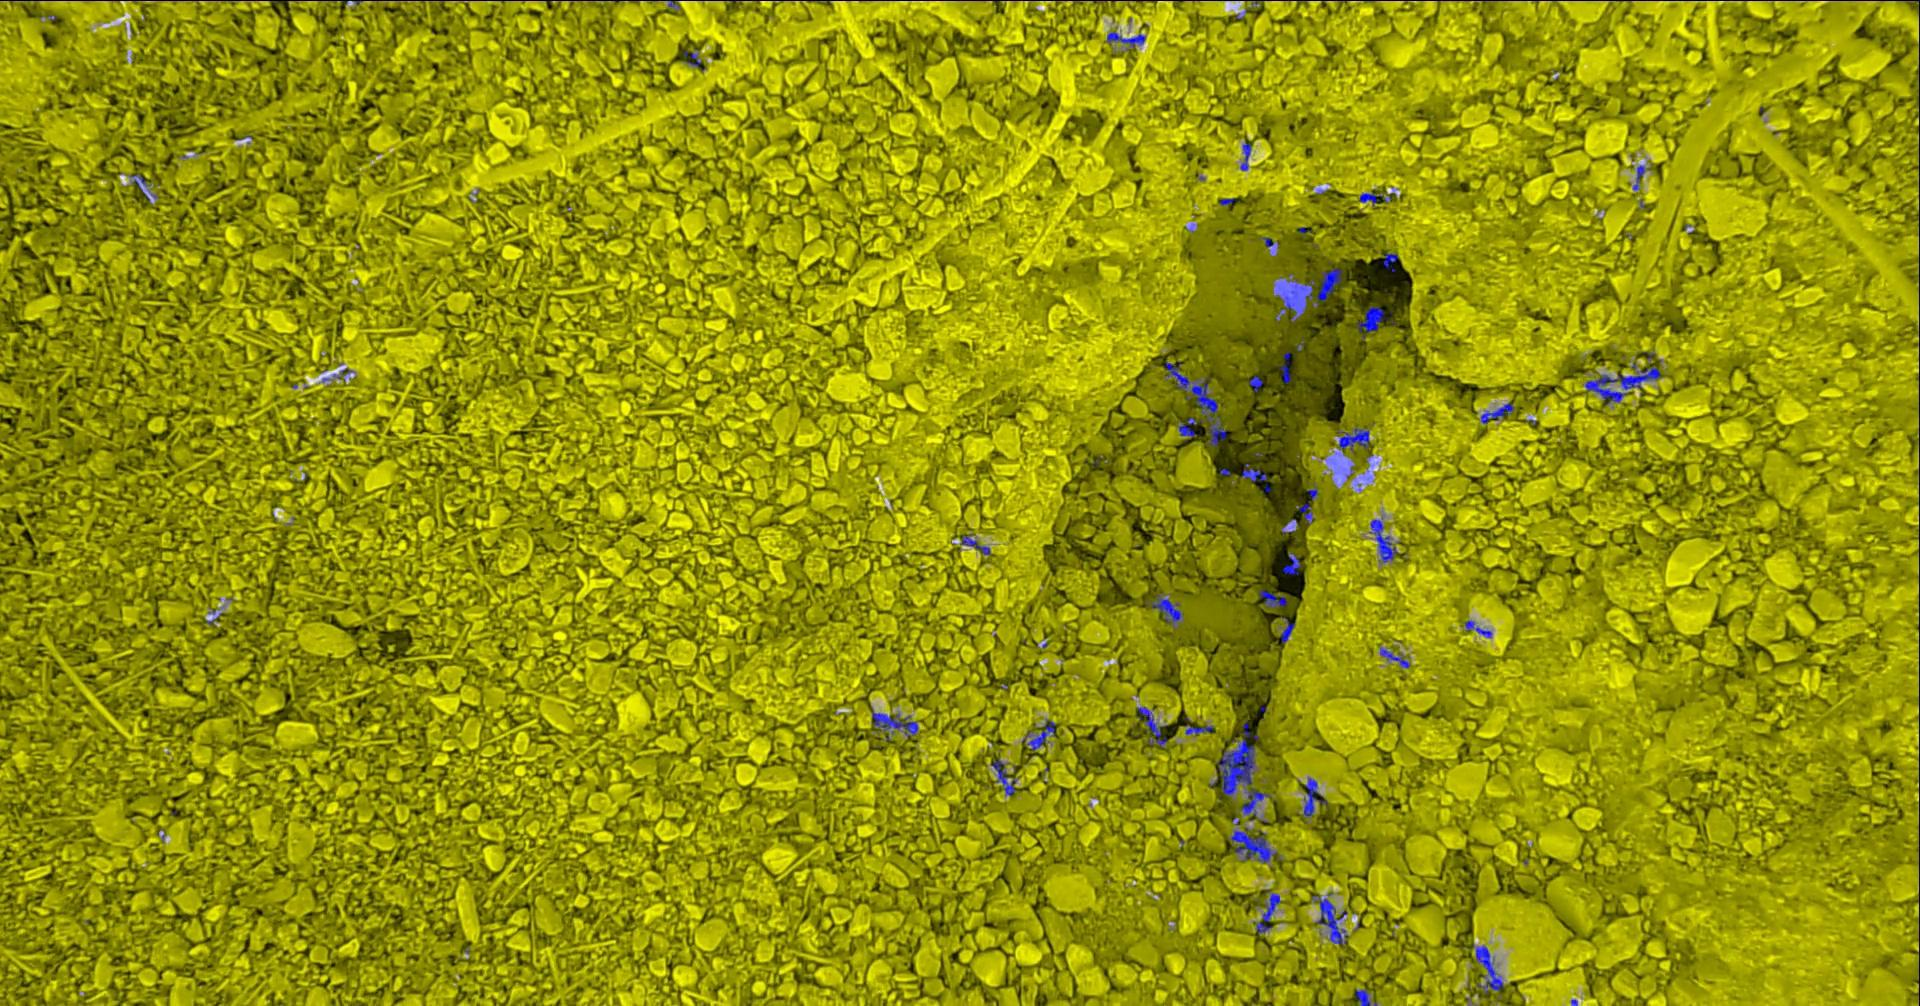ant: (1586, 366, 1662, 404), (1313, 895, 1350, 944), (1233, 827, 1279, 862), (1477, 945, 1505, 993), (872, 708, 919, 735), (1371, 517, 1401, 561), (1147, 593, 1183, 626), (1357, 306, 1396, 338), (1139, 706, 1168, 746), (1303, 777, 1330, 817), (1023, 718, 1057, 749), (1257, 893, 1283, 934), (1242, 788, 1272, 821), (992, 760, 1018, 795), (1242, 464, 1272, 492), (1338, 427, 1371, 452), (131, 173, 160, 199), (1482, 403, 1515, 423), (1109, 30, 1147, 47), (961, 533, 992, 554), (1382, 647, 1411, 667), (1260, 589, 1288, 607), (1465, 620, 1493, 636), (1178, 417, 1197, 441), (1297, 502, 1316, 523), (1283, 553, 1302, 574), (684, 47, 703, 67), (1361, 192, 1392, 205), (1280, 351, 1291, 384), (1281, 617, 1297, 641), (1357, 988, 1378, 1005), (1242, 141, 1253, 170), (1384, 251, 1399, 272), (1634, 165, 1646, 191), (1186, 725, 1217, 734), (1250, 375, 1263, 391)
